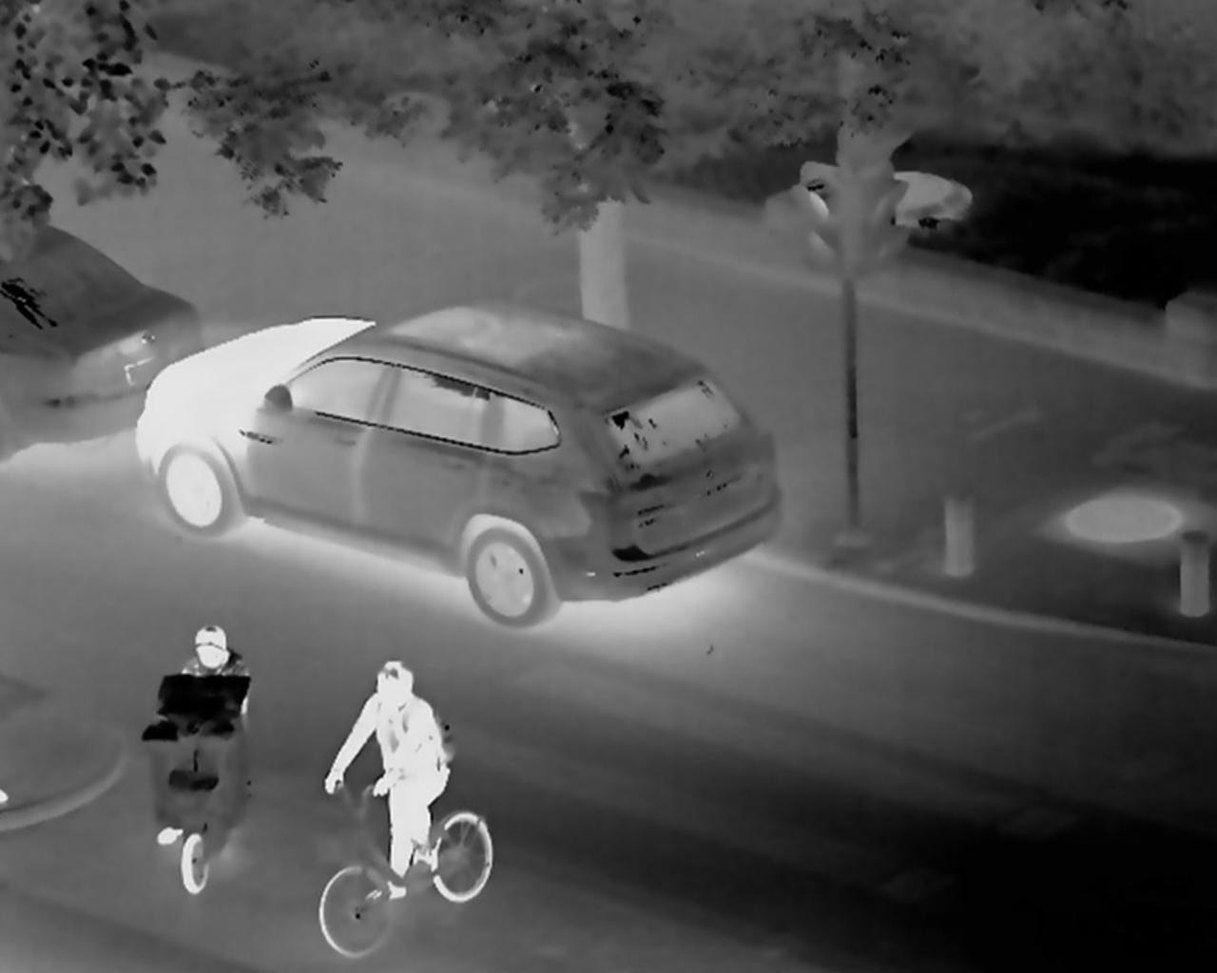person: (337, 656, 480, 903), (137, 626, 254, 843)
